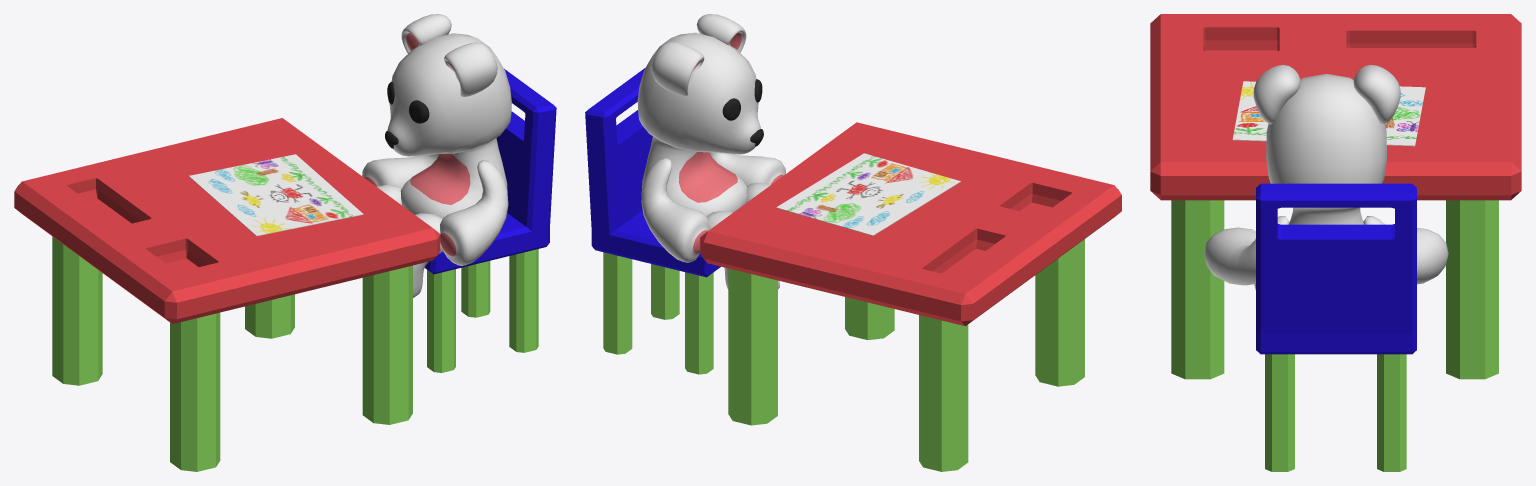
File: Table.fbx
3 renders of one model, left to right at view 1: azimuth 30°, elevation 25°; view 2: azimuth 150°, elevation 25°; view 3: azimuth 270°, elevation 25°, orthographic. The views are drawn at different scales.
Visible parts, largest first — view 1: Cube.007; view 2: Cube.007; view 3: Cube.007.
Part boxes in pixels (left/top/right/bottom): Cube.007: left=14, top=14, right=556, bottom=471; Cube.007: left=585, top=14, right=1121, bottom=471; Cube.007: left=1150, top=14, right=1521, bottom=471.
Bounding box in the file's own units: 0.2088 × 0.1442 × 0.1325.
